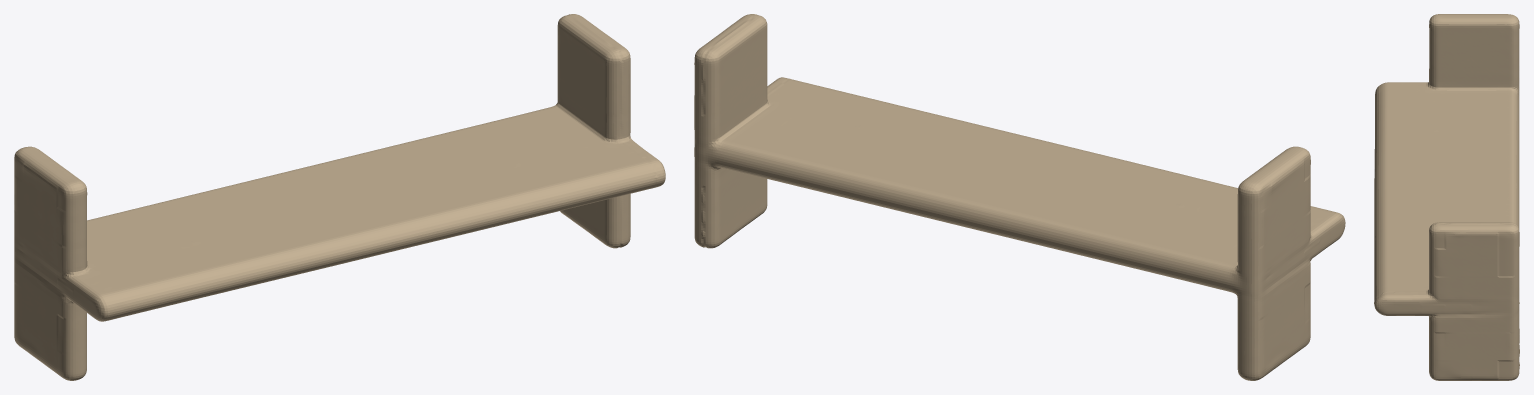
File: hunyuan_etagere.glb
3 views of the same model, side by side, from view 1: azimuth 30°, elevation 25°; view 2: azimuth 150°, elevation 25°; view 3: azimuth 270°, elevation 25° (orthographic). The views are drawn at different scales.
Visible parts, largest first — view 1: geometry_0; view 2: geometry_0; view 3: geometry_0.
Boxes of the visible parts, box(x1,y1,x2,y2) form: geometry_0: box(14, 14, 665, 380); geometry_0: box(694, 14, 1345, 380); geometry_0: box(1374, 14, 1519, 380).
Size of the model in its own units: 0.6 by 0.2 by 0.17.
